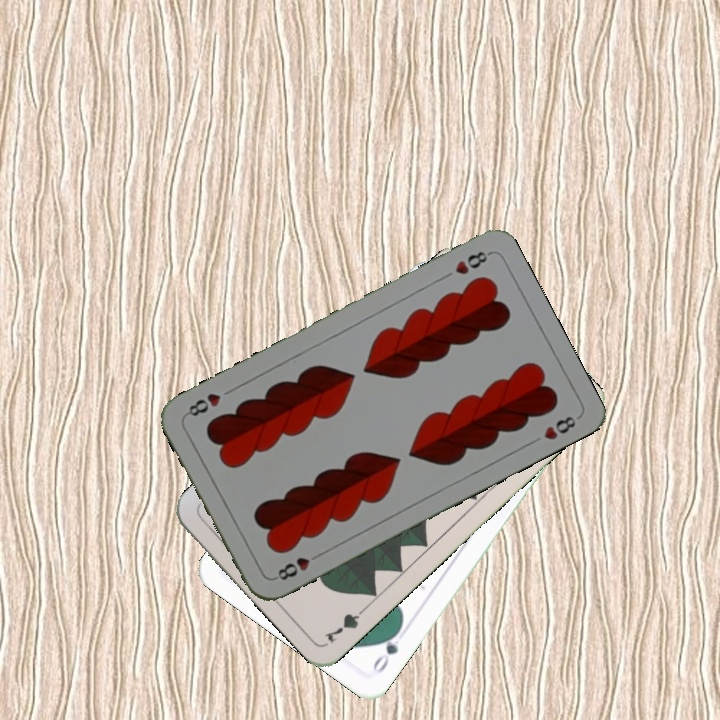G7: (320, 600, 371, 646)
GO: (368, 622, 404, 676)
H8: (271, 548, 324, 583), (450, 247, 493, 277)
